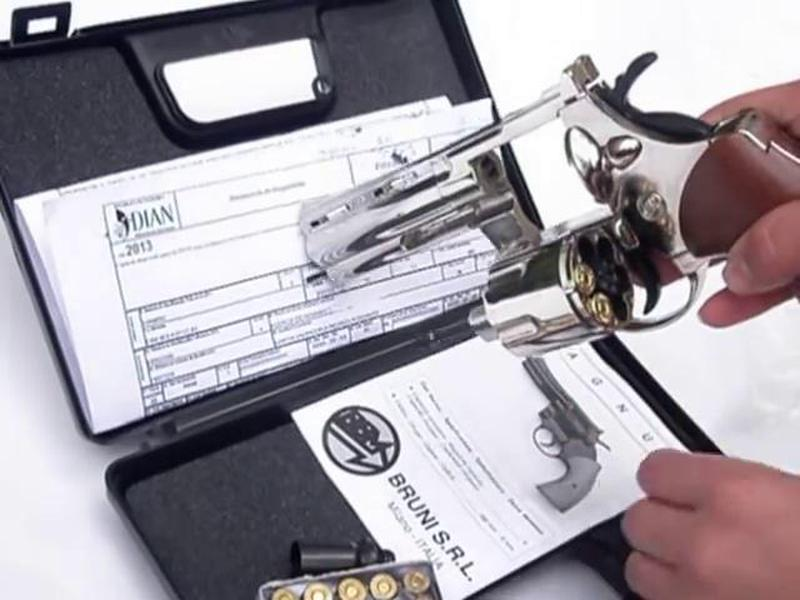Revolver: (264, 67, 800, 345)
